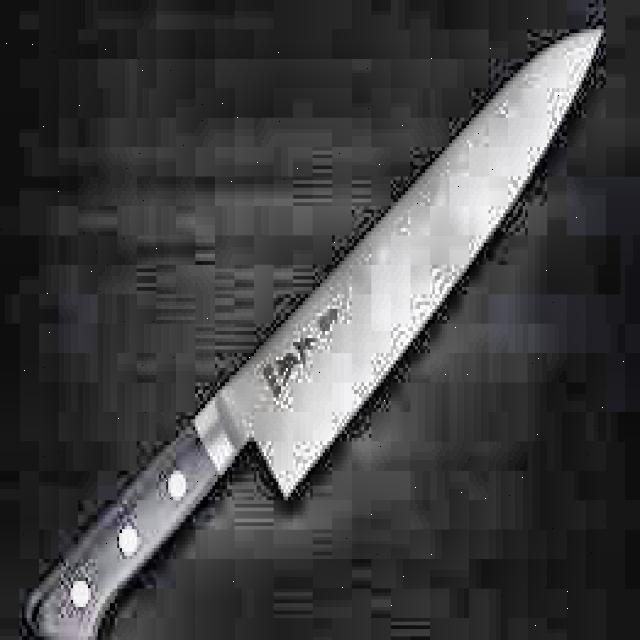knife: (27, 25, 601, 640)
